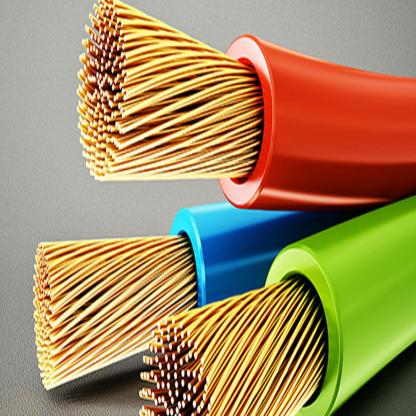wires: (32, 234, 326, 415), (75, 0, 264, 184)
